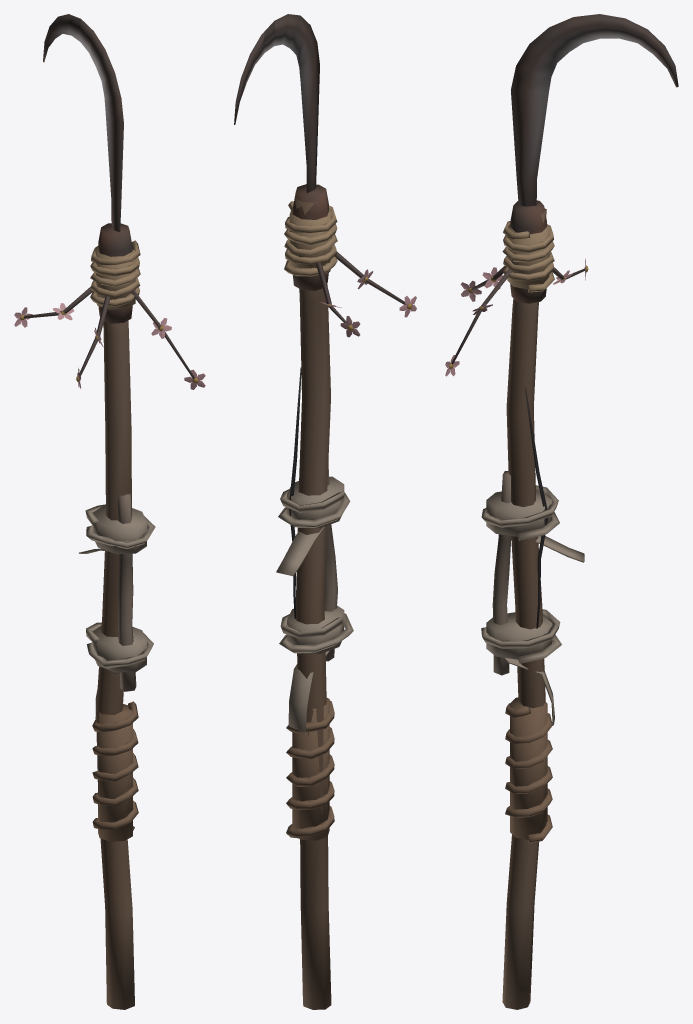
The model's file is wpn_pruning_hook.glb.
3 renders of one model, left to right at view 1: azimuth 30°, elevation 25°; view 2: azimuth 150°, elevation 25°; view 3: azimuth 270°, elevation 25°, orthographic. The views are drawn at different scales.
Parts seen in each view (by area): view 1: wpn_pruning_hook, wpn_pruning_hook_worn; view 2: wpn_pruning_hook, wpn_pruning_hook_worn; view 3: wpn_pruning_hook, wpn_pruning_hook_worn.
Part boxes in pixels (left/top/right/bottom): wpn_pruning_hook: left=14, top=14, right=205, bottom=1009; wpn_pruning_hook_worn: left=68, top=15, right=155, bottom=719; wpn_pruning_hook: left=234, top=14, right=416, bottom=1009; wpn_pruning_hook_worn: left=262, top=21, right=353, bottom=731; wpn_pruning_hook: left=445, top=14, right=678, bottom=1009; wpn_pruning_hook_worn: left=481, top=26, right=624, bottom=725.
Size of what is drawn, in the model's own units: 0.1253 by 0.9237 by 0.1975.
